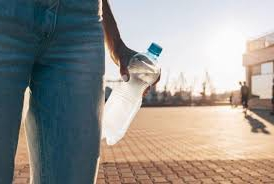plastic water bottle: (98, 42, 167, 146)
